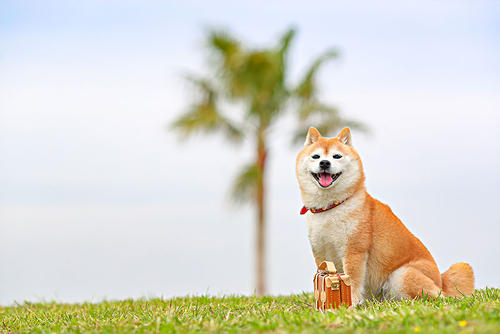dog: (282, 123, 378, 211)
